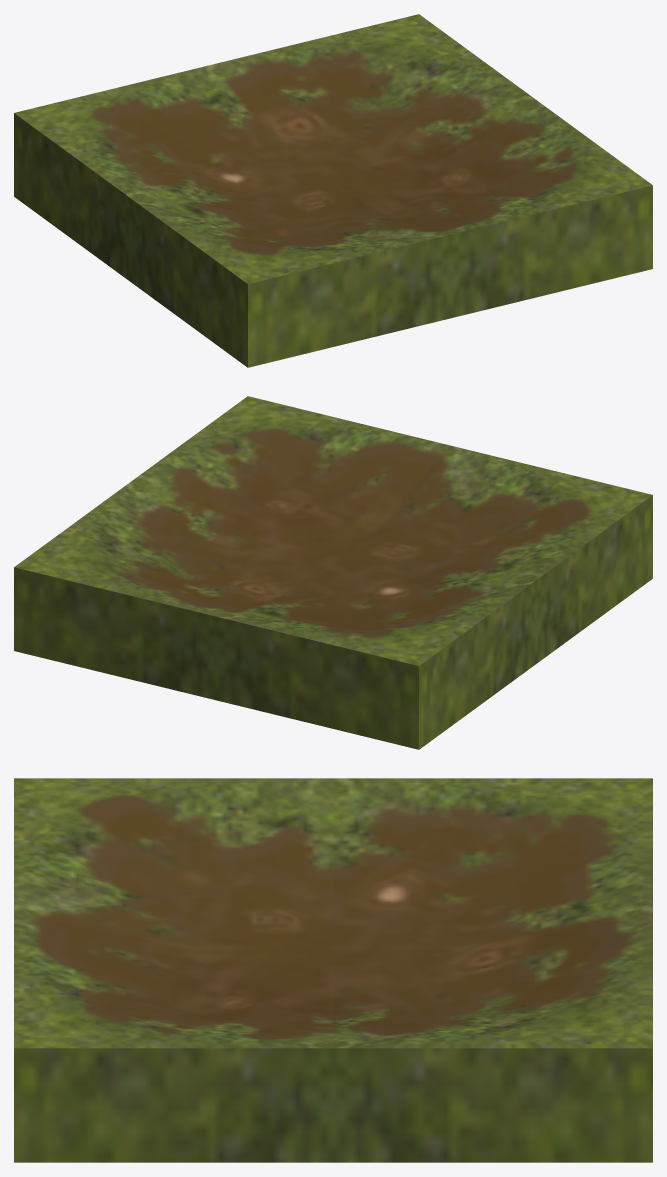
The model's file is jun_mudpool.obj.
3 renders of one model, top to bottom at view 1: azimuth 30°, elevation 25°; view 2: azimuth 150°, elevation 25°; view 3: azimuth 270°, elevation 25°, orthographic. The views are drawn at different scales.
Parts seen in each view (by area): view 1: jun_mudpool; view 2: jun_mudpool; view 3: jun_mudpool.
Part boxes in pixels (<box>): jun_mudpool: <box>14,14,652,367</box>; jun_mudpool: <box>14,396,652,749</box>; jun_mudpool: <box>14,778,652,1162</box>.
Bounding box in the file's own units: 2 × 0.395 × 2.
Materials: 1 (1 with a texture image).
